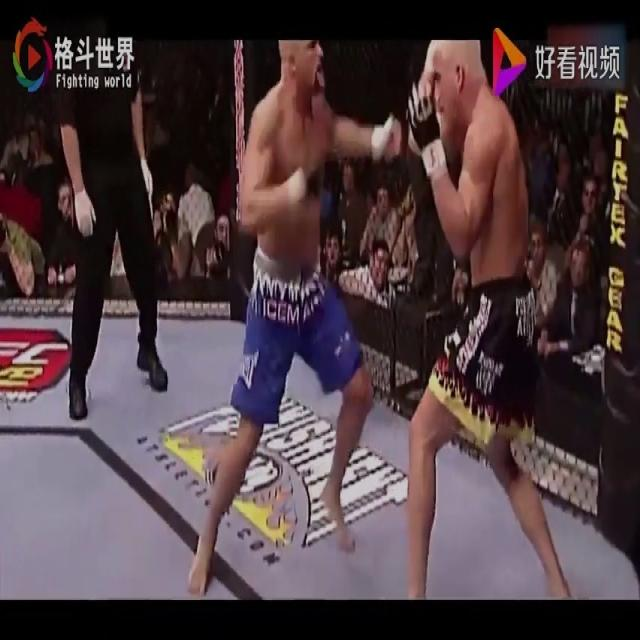fight: (187, 32, 627, 599)
non-fight: (42, 23, 178, 417)
